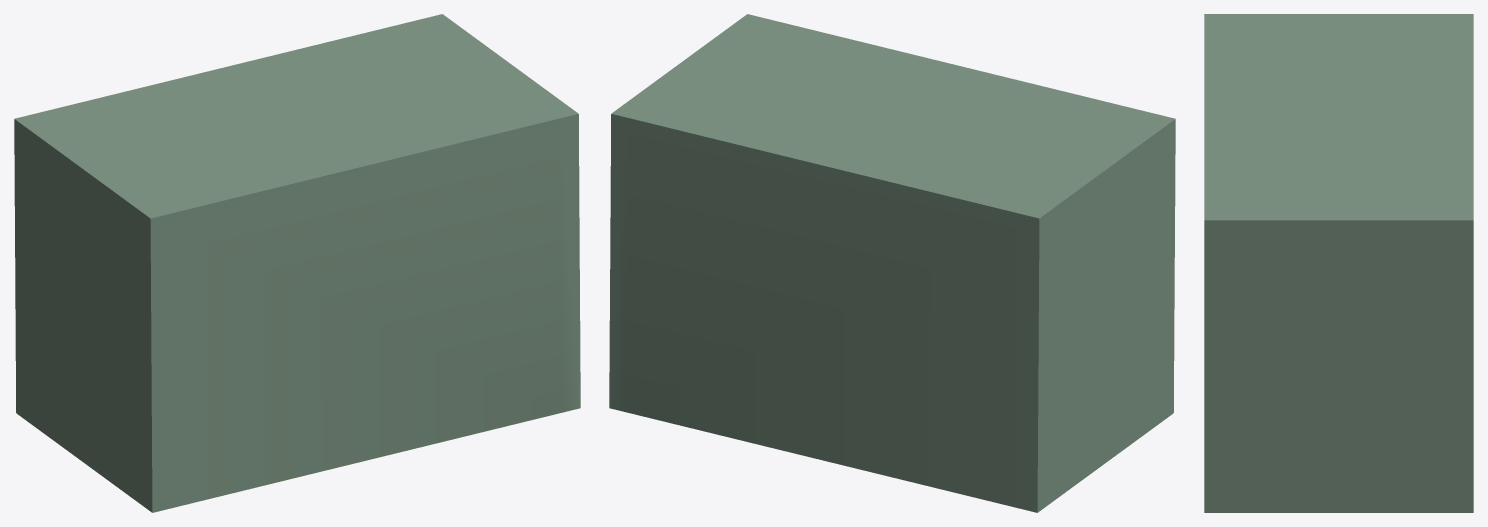
File: MSH_QuestObject_cabinet_09.fbx
3 renders of one model, left to right at view 1: azimuth 30°, elevation 25°; view 2: azimuth 150°, elevation 25°; view 3: azimuth 270°, elevation 25°, orthographic.
Visible parts, largest first — view 1: MSH_QuestObject_cabinet_09; view 2: MSH_QuestObject_cabinet_09; view 3: MSH_QuestObject_cabinet_09.
Part boxes in pixels (x1,y1,x2,y2): MSH_QuestObject_cabinet_09: (14, 14, 580, 512); MSH_QuestObject_cabinet_09: (609, 14, 1175, 512); MSH_QuestObject_cabinet_09: (1204, 14, 1473, 512).
Size of the model in its own units: 1.38 by 0.9032 by 0.7558.
